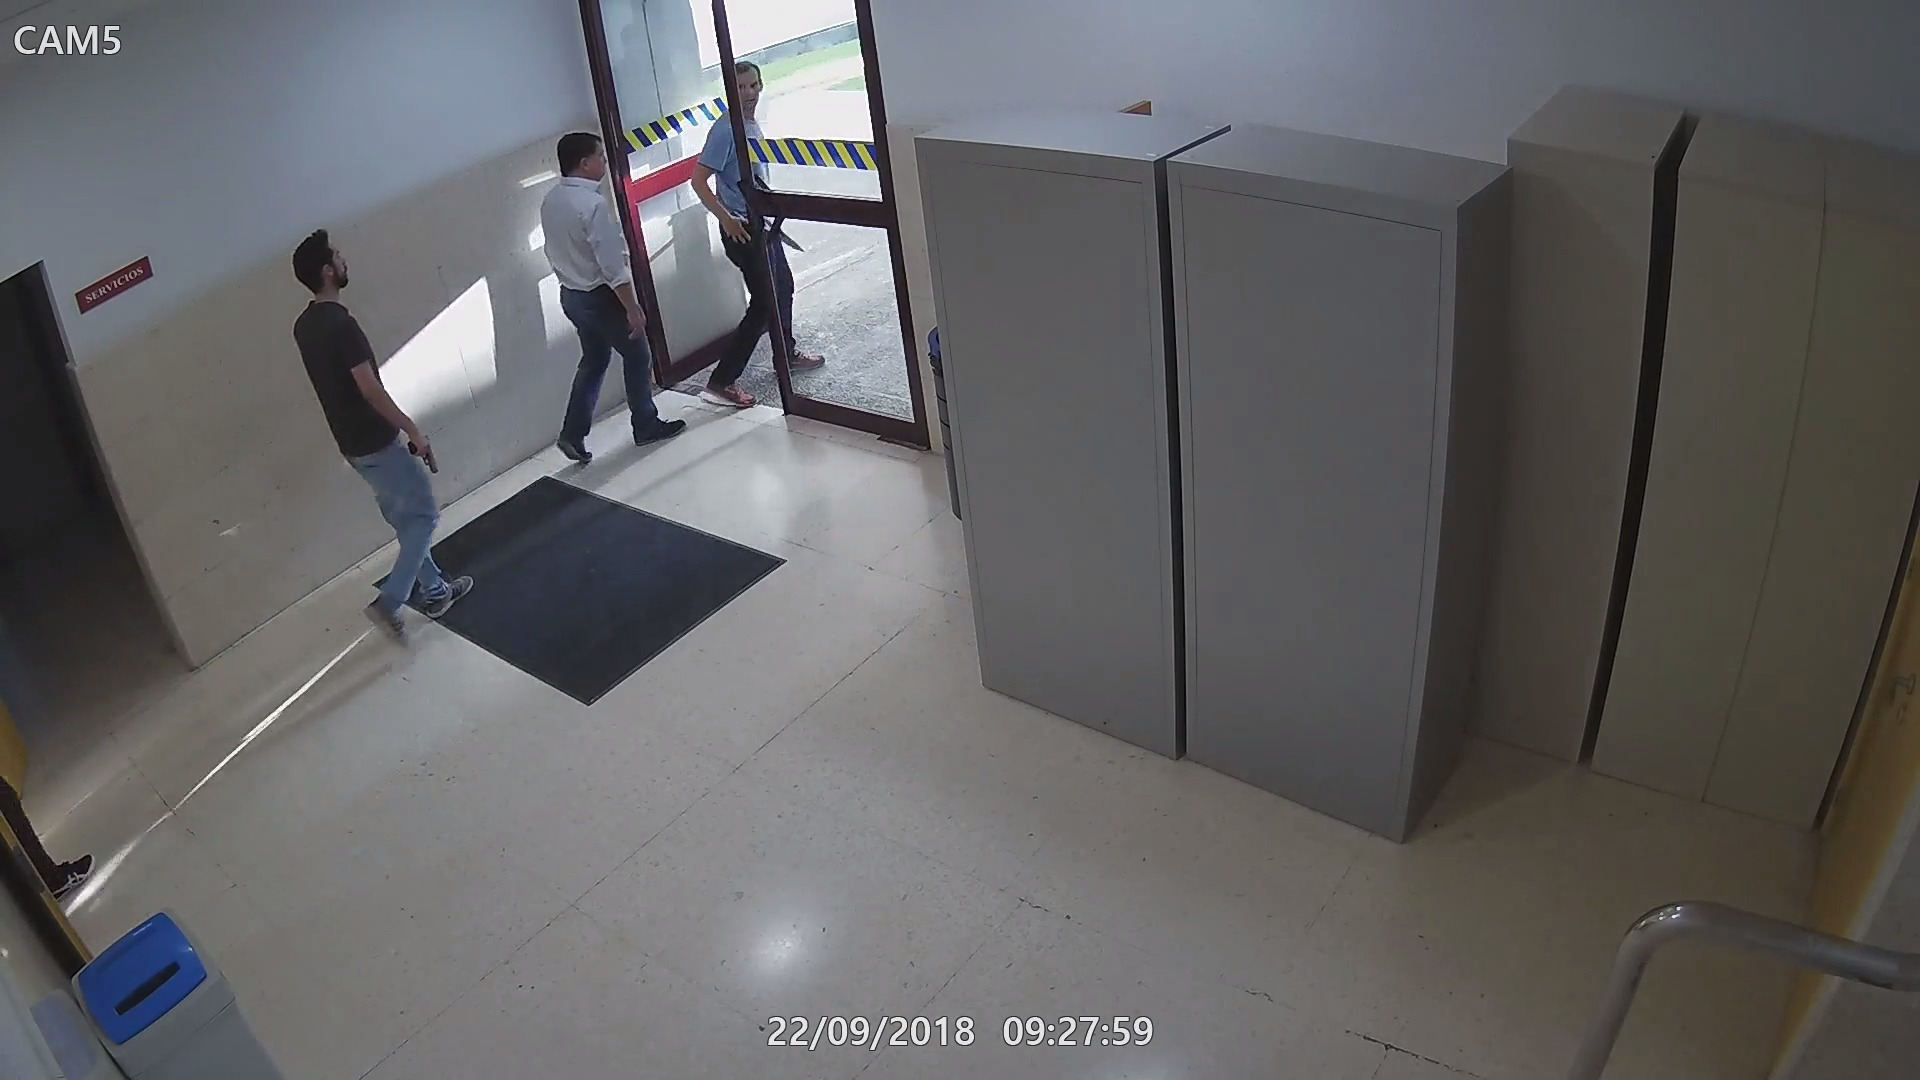knife: (760, 220, 810, 257)
pistol: (404, 434, 440, 477)
